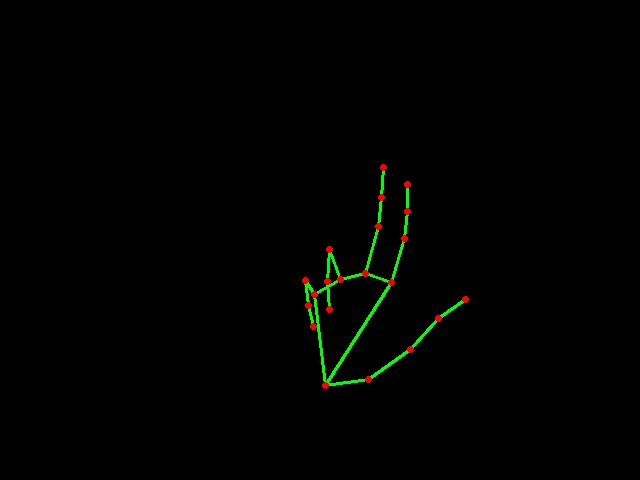forward: (298, 152, 476, 398)
